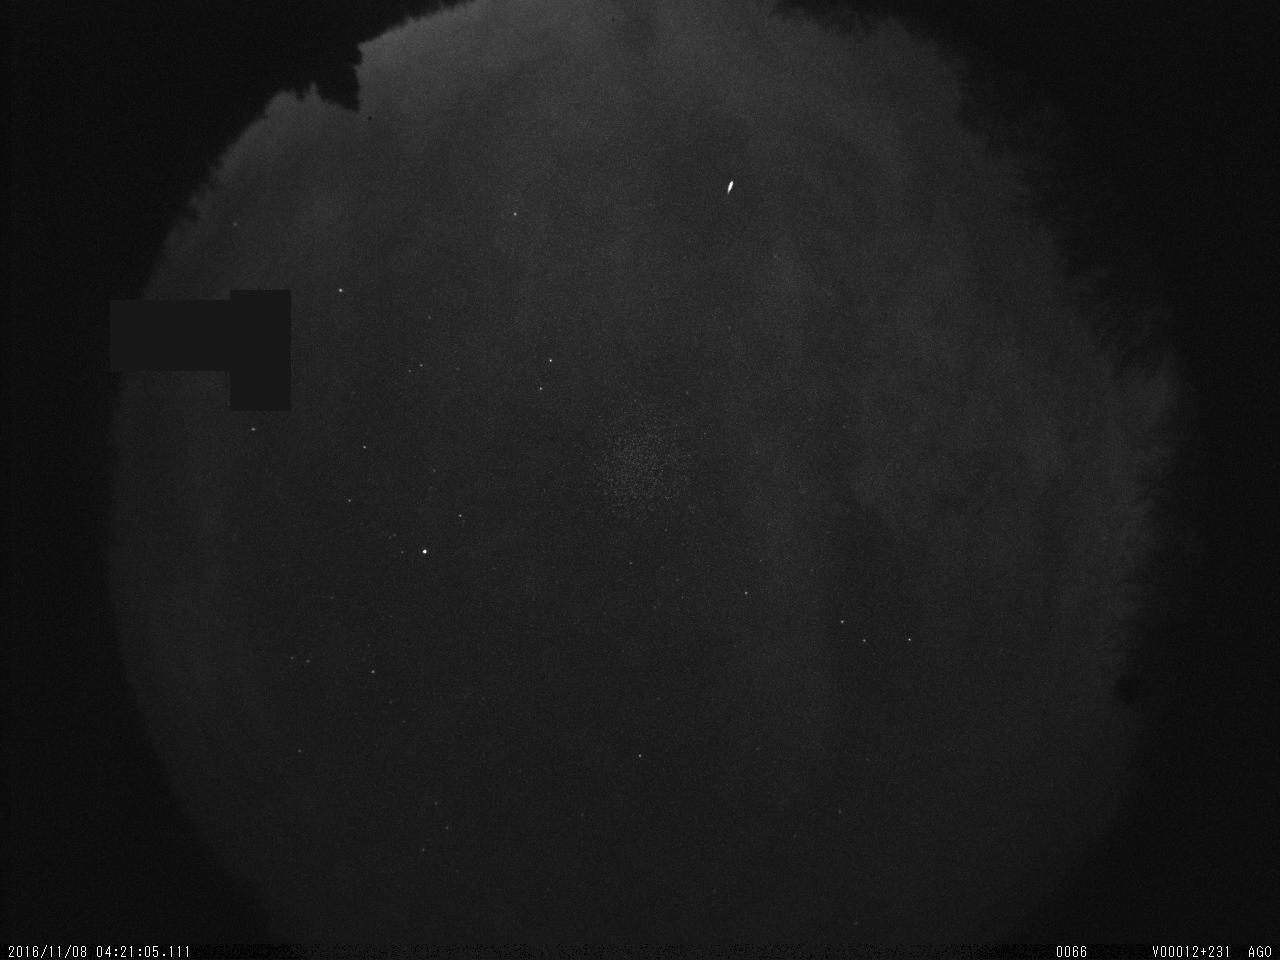meteor: (719, 174, 740, 202)
